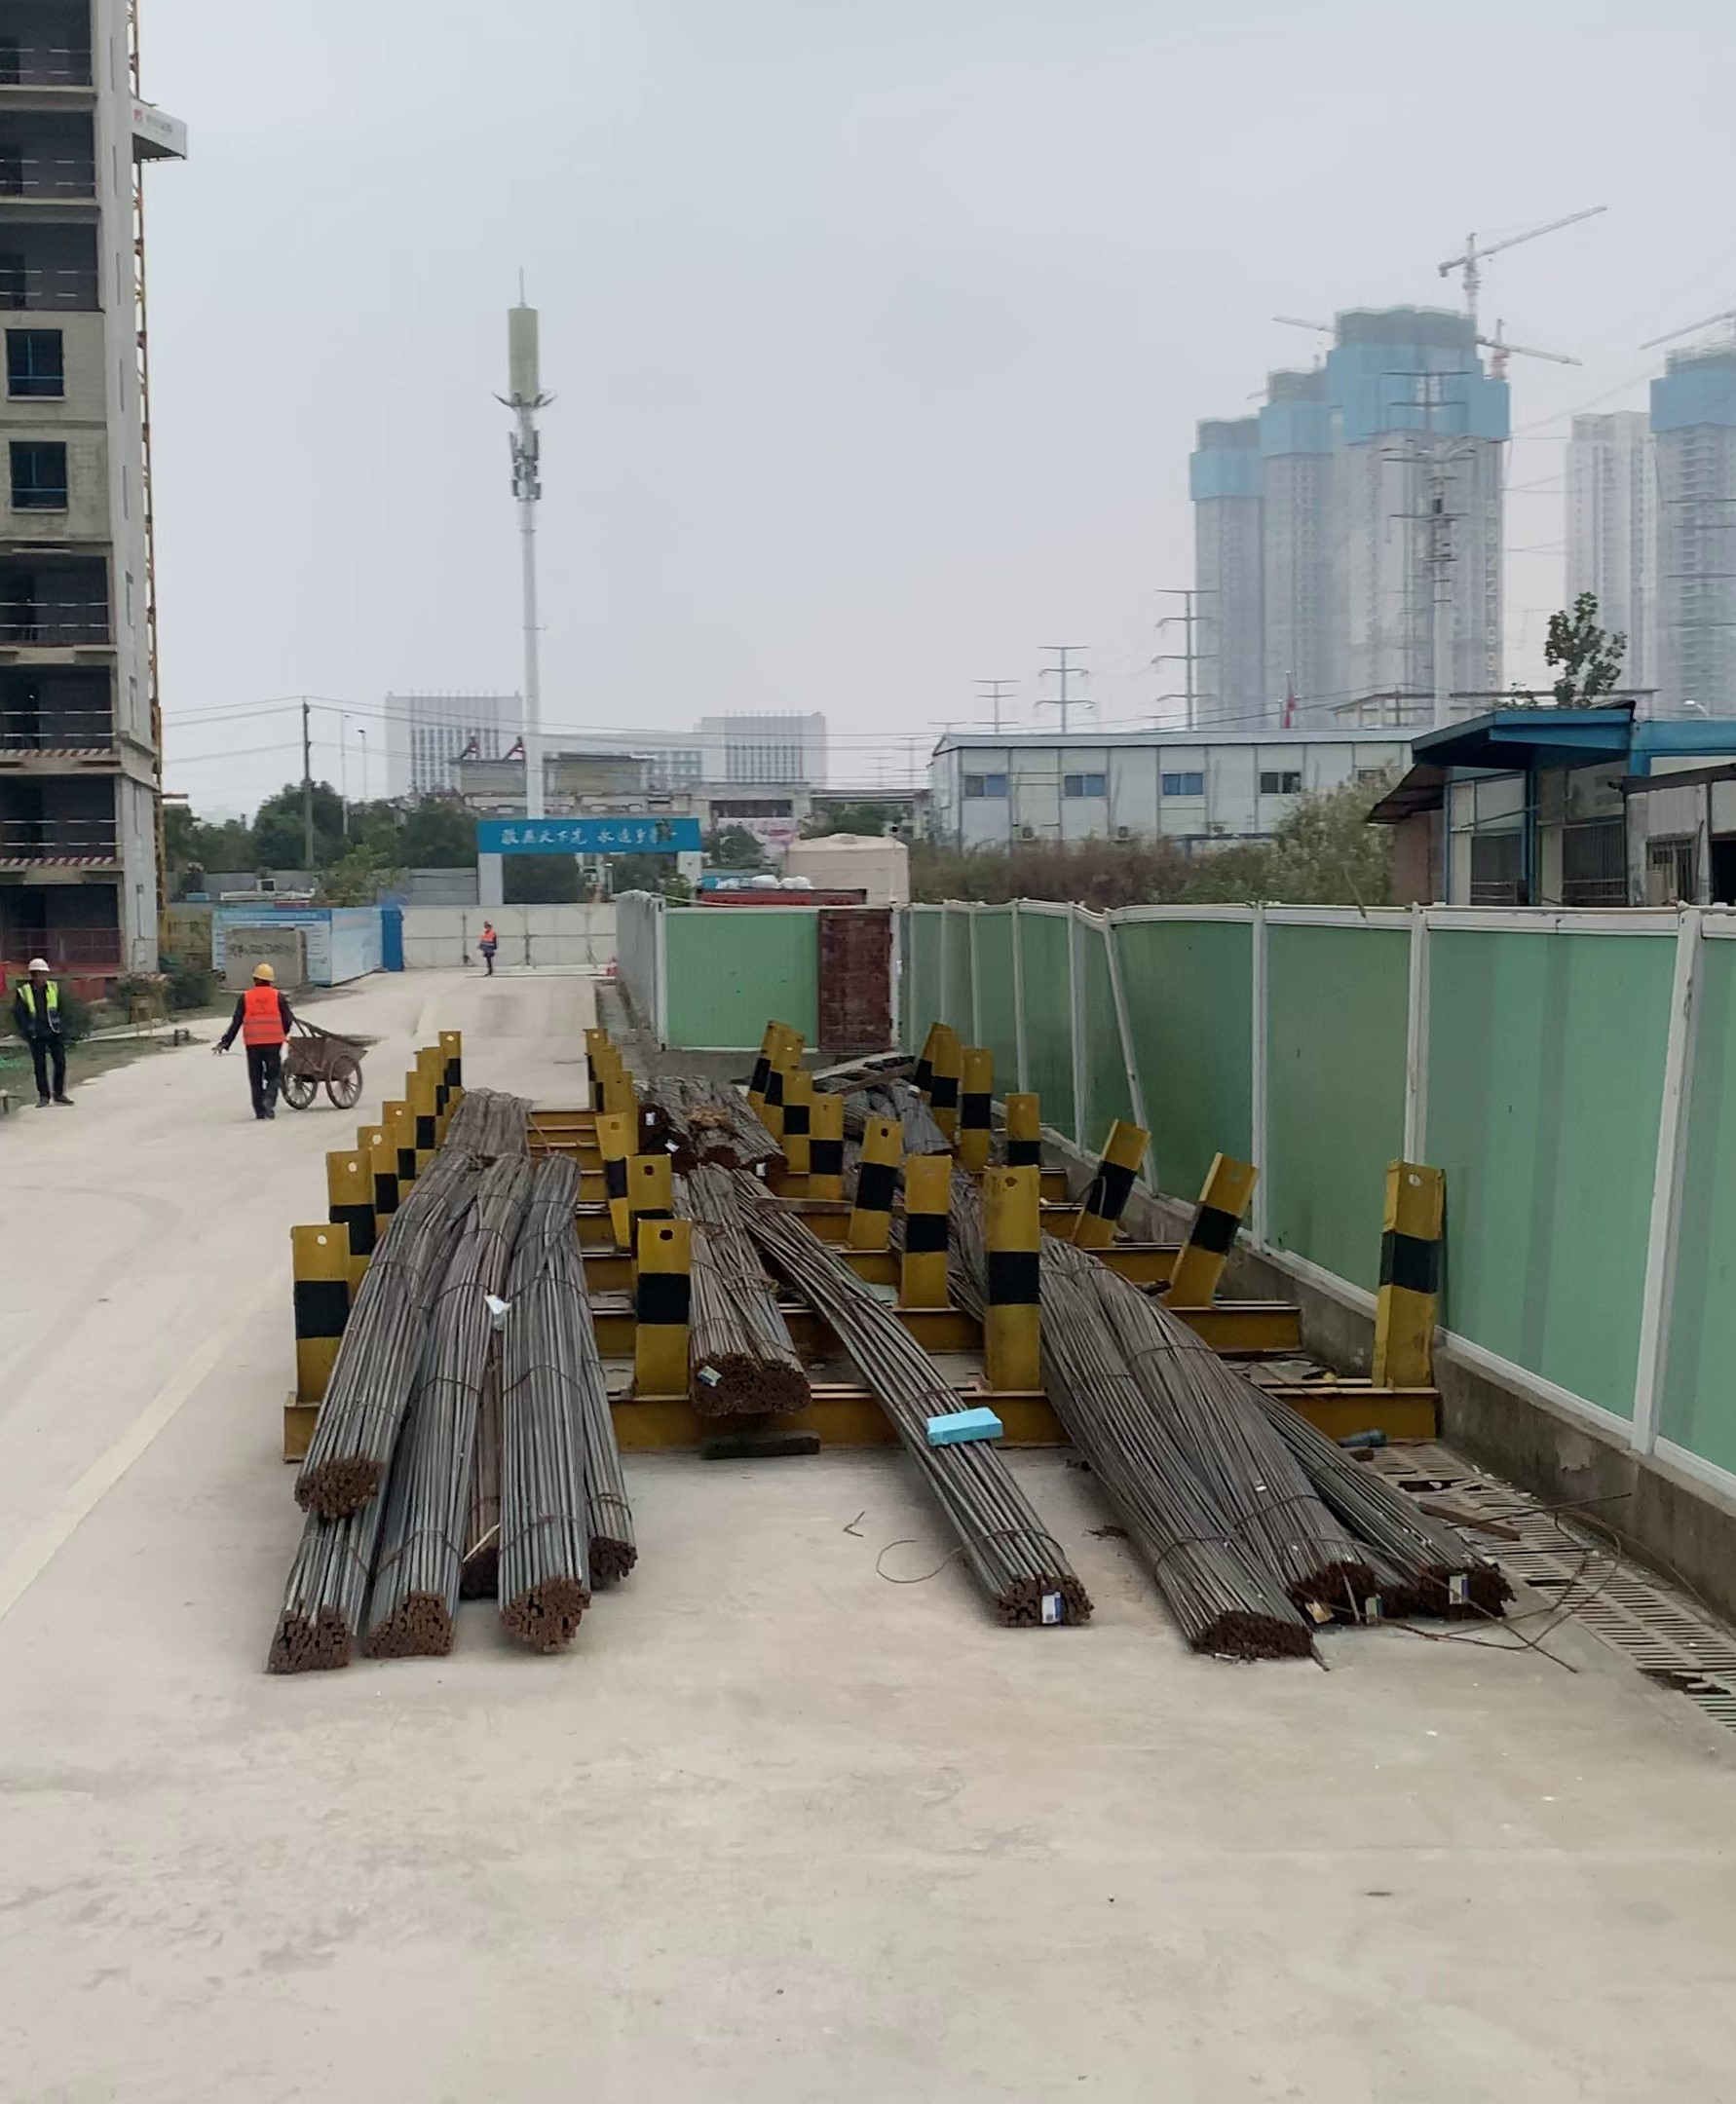rebar: (983, 1554, 1100, 1639), (1383, 1559, 1514, 1625), (1191, 1604, 1316, 1667), (260, 1595, 351, 1681), (503, 1571, 589, 1657), (364, 1590, 453, 1662), (1292, 1554, 1369, 1623), (692, 1339, 755, 1421), (290, 1463, 385, 1517), (580, 1529, 643, 1594), (767, 1351, 809, 1422), (467, 1536, 498, 1592)
